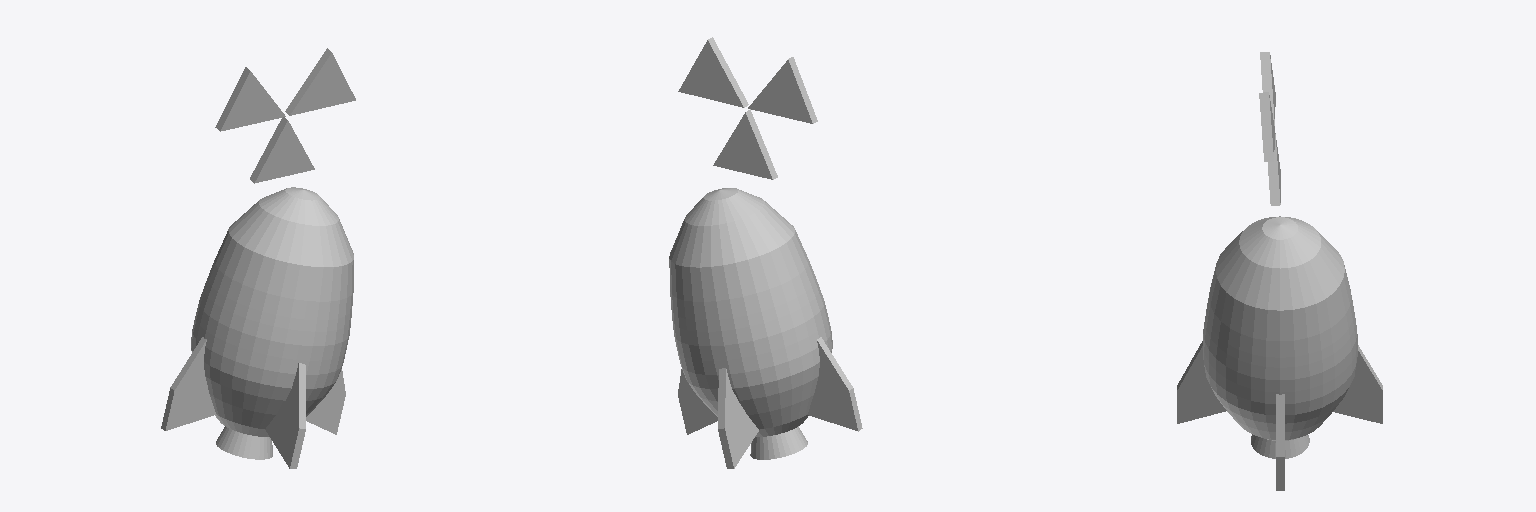
The model's file is nukeTower.obj.
3 views of the same model, side by side, from view 1: azimuth 30°, elevation 25°; view 2: azimuth 150°, elevation 25°; view 3: azimuth 270°, elevation 25° (orthographic).
Parts seen in each view (by area): view 1: Sphere, Cube.002, Cube.001, Cylinder; view 2: Sphere, Cube.002, Cube.001, Cylinder; view 3: Sphere, Cube.001, Cube.002, Cylinder.
Part boxes in pixels (bbox=[...]): Sphere: bbox=[191, 187, 353, 436]; Cube.002: bbox=[215, 48, 355, 183]; Cube.001: bbox=[161, 337, 345, 468]; Cylinder: bbox=[216, 426, 272, 459]; Sphere: bbox=[669, 188, 832, 436]; Cube.002: bbox=[678, 37, 817, 179]; Cube.001: bbox=[678, 337, 862, 468]; Cylinder: bbox=[750, 426, 807, 459]; Sphere: bbox=[1203, 216, 1357, 440]; Cube.001: bbox=[1177, 341, 1382, 490]; Cube.002: bbox=[1259, 52, 1280, 205]; Cylinder: bbox=[1251, 434, 1309, 458].
Bounding box in the file's own units: 1.31 × 2.65 × 1.25.